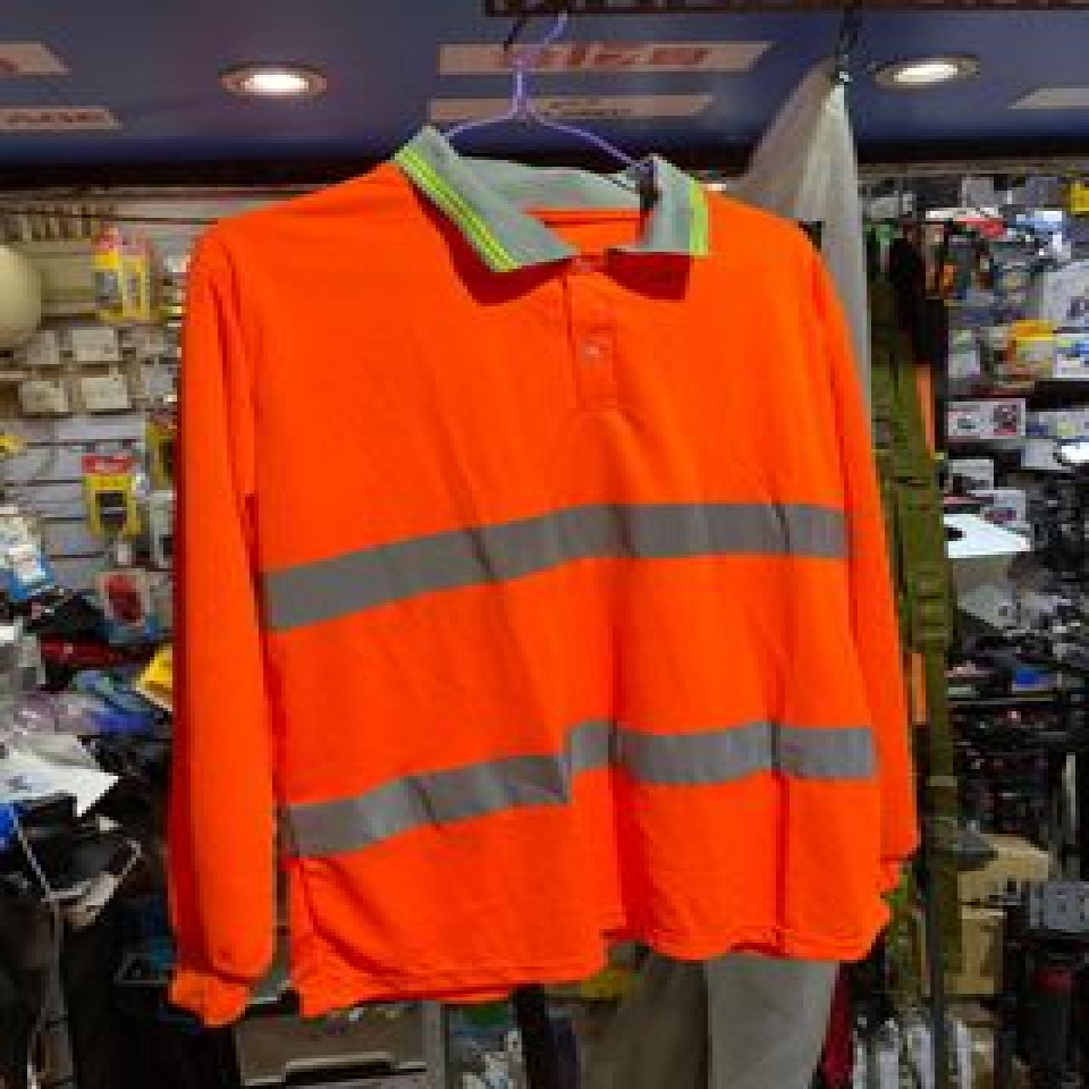NO_Safety_Vest: (160, 146, 932, 1022)
